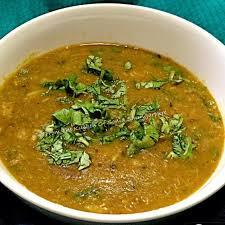varan: (1, 47, 225, 203)
